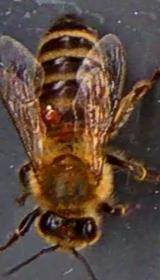varroa_mite: (31, 101, 71, 131)
